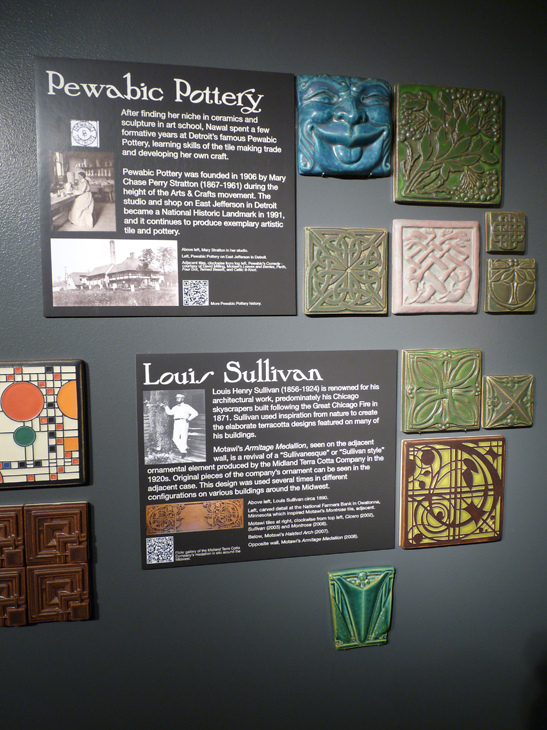QR-CODE: (146, 535, 173, 562), (184, 281, 208, 305)
